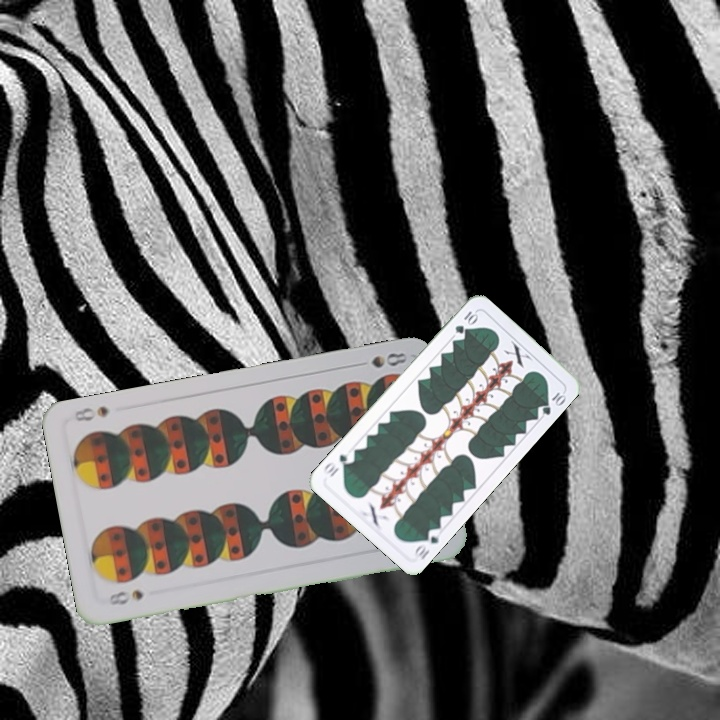G10: (410, 524, 441, 562), (451, 307, 480, 336)
S8: (351, 348, 409, 371), (105, 586, 147, 608)
